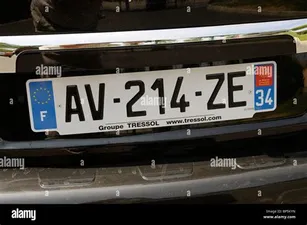number_plate: (21, 61, 292, 134)
